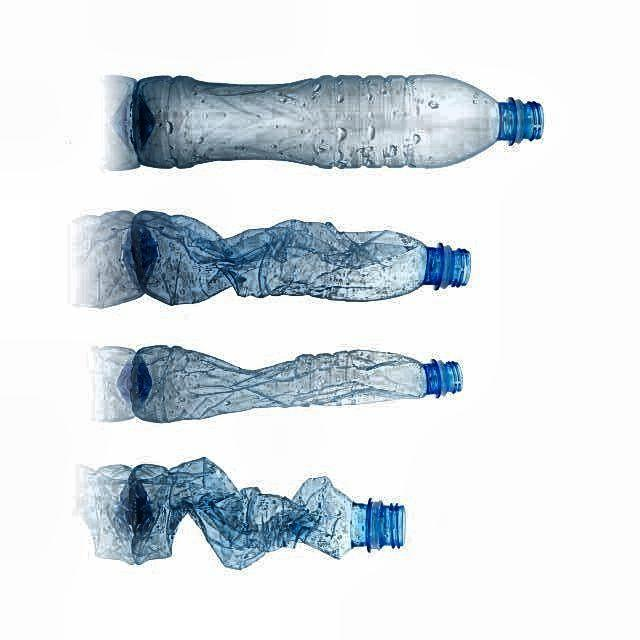plastic: (124, 75, 542, 168), (130, 212, 470, 304), (129, 459, 404, 568), (130, 346, 461, 422)
